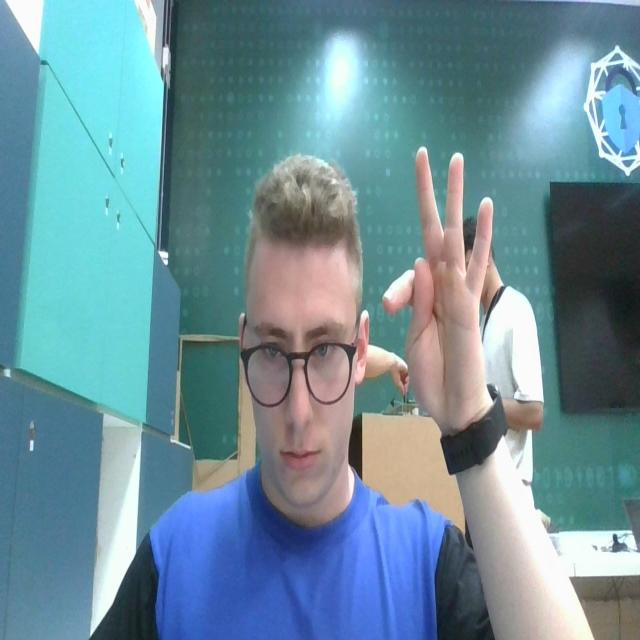T: (380, 142, 497, 420)
